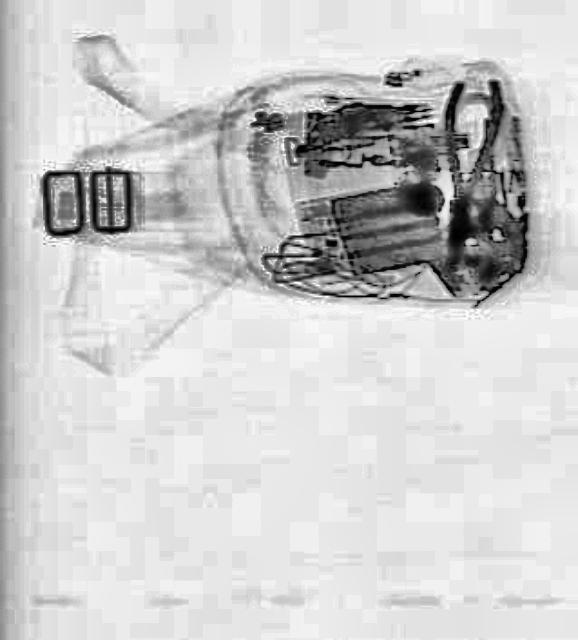Pliers: (428, 73, 504, 255)
